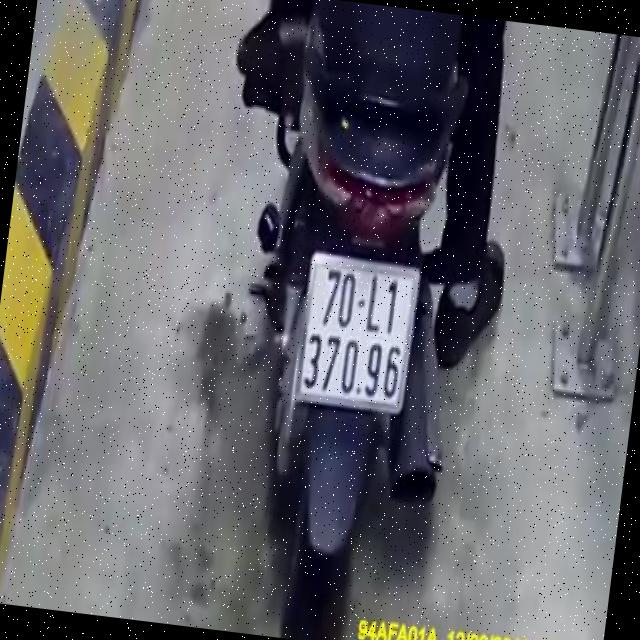license_plate: (293, 252, 418, 414)
